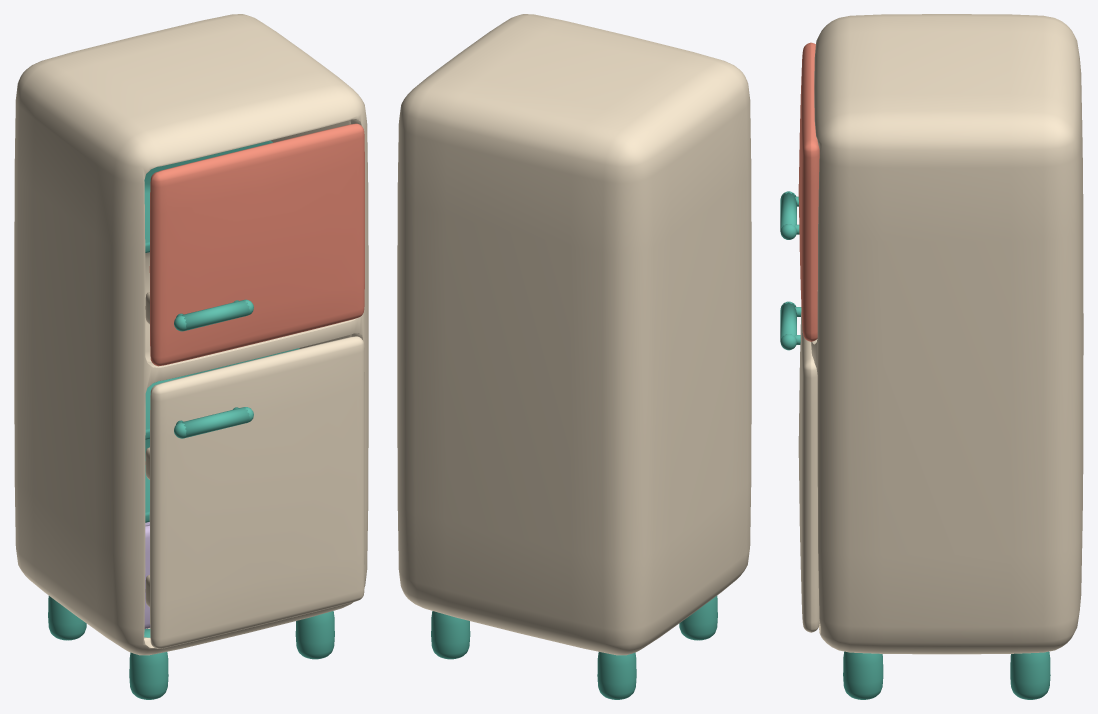
Rendered from fridge_c.glb.
The picture shows the model from 3 angles, left to right: view 1: azimuth 30°, elevation 25°; view 2: azimuth 150°, elevation 25°; view 3: azimuth 270°, elevation 25°; orthographic projection. The views are drawn at different scales.
Parts seen in each view (by area): view 1: body, door, door_top; view 2: body; view 3: body, door, door_top.
Boxes of the visible parts, bbox=[...] form: body: bbox=[14, 14, 368, 699]; door: bbox=[145, 336, 364, 648]; door_top: bbox=[145, 123, 364, 366]; body: bbox=[397, 14, 751, 699]; body: bbox=[811, 14, 1083, 699]; door: bbox=[780, 301, 819, 632]; door_top: bbox=[780, 42, 819, 341].
Size of the model in its own units: 0.8 by 1.72 by 0.798.
